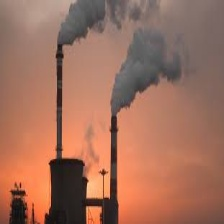smoke: (110, 42, 186, 112), (52, 1, 138, 48)
